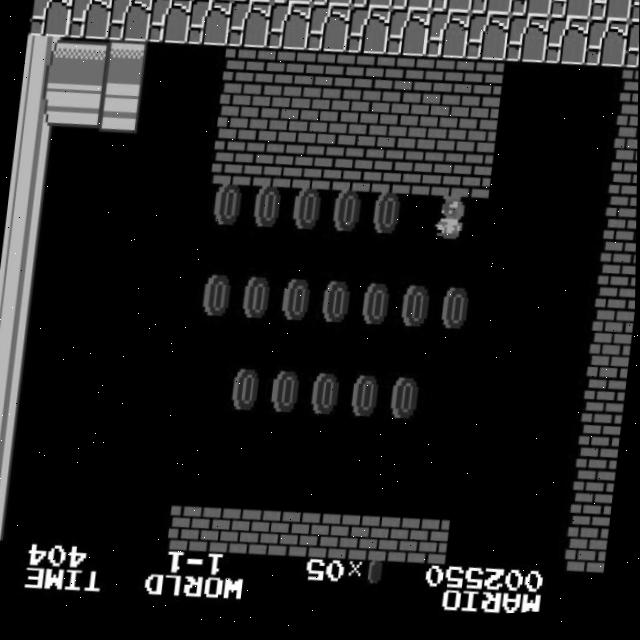1- brick_block: (453, 107, 500, 159), (458, 62, 505, 114), (413, 105, 460, 157), (419, 59, 466, 111), (326, 513, 373, 565), (374, 102, 421, 154), (286, 511, 333, 563), (334, 99, 381, 151), (246, 508, 293, 560), (294, 97, 341, 149), (167, 503, 214, 555), (379, 57, 426, 108), (220, 47, 267, 98), (565, 529, 611, 581), (586, 346, 632, 398), (406, 518, 452, 570), (366, 515, 412, 567), (340, 54, 386, 106), (300, 51, 346, 103), (207, 505, 253, 557), (255, 94, 301, 146), (260, 49, 306, 101), (215, 92, 261, 144), (448, 154, 494, 205), (409, 151, 455, 202), (329, 146, 375, 197), (581, 392, 626, 444), (369, 149, 415, 199), (210, 139, 256, 189), (576, 438, 621, 489), (290, 143, 335, 194), (250, 141, 295, 192), (571, 484, 615, 535), (592, 301, 636, 352), (596, 255, 637, 307), (602, 210, 637, 261), (607, 165, 638, 215), (613, 119, 638, 169), (617, 73, 639, 124)
11- little_mario: (428, 195, 477, 249)
14- pipe: (61, 36, 108, 88), (22, 34, 69, 86), (56, 82, 102, 134), (1, 217, 47, 269), (6, 171, 52, 223), (12, 126, 58, 177), (17, 80, 63, 131), (0, 262, 41, 313), (0, 307, 36, 359), (0, 354, 31, 405), (0, 400, 25, 450), (0, 445, 20, 495), (0, 490, 15, 541)
15- pipe_head: (96, 84, 142, 136), (101, 39, 147, 91)
17- undestructible_block: (583, 23, 630, 75), (543, 21, 590, 73), (464, 16, 511, 68), (424, 13, 471, 65), (305, 6, 352, 58), (265, 3, 312, 55), (225, 0, 272, 52), (503, 19, 550, 70), (385, 11, 431, 63), (345, 8, 391, 60), (186, 0, 232, 50), (146, 0, 192, 47), (106, 0, 153, 45), (66, 0, 113, 42), (28, 0, 74, 40), (589, 1, 632, 30), (549, 0, 592, 27), (509, 0, 553, 25), (470, 0, 513, 22), (430, 0, 473, 19), (623, 28, 639, 79), (390, 0, 433, 17), (350, 0, 393, 15), (311, 0, 354, 11), (271, 0, 314, 9), (628, 6, 640, 32), (231, 0, 274, 7), (191, 0, 234, 4), (151, 0, 194, 2)
2- coin: (392, 287, 439, 339), (352, 285, 399, 337), (363, 194, 410, 246), (313, 282, 360, 334), (273, 280, 320, 332), (204, 183, 251, 235), (244, 186, 291, 237), (432, 290, 478, 342), (324, 191, 370, 243), (284, 188, 330, 240), (234, 277, 280, 329), (382, 379, 428, 430), (342, 377, 388, 428), (263, 372, 309, 423), (194, 275, 240, 326), (303, 374, 348, 425), (224, 369, 269, 420)
